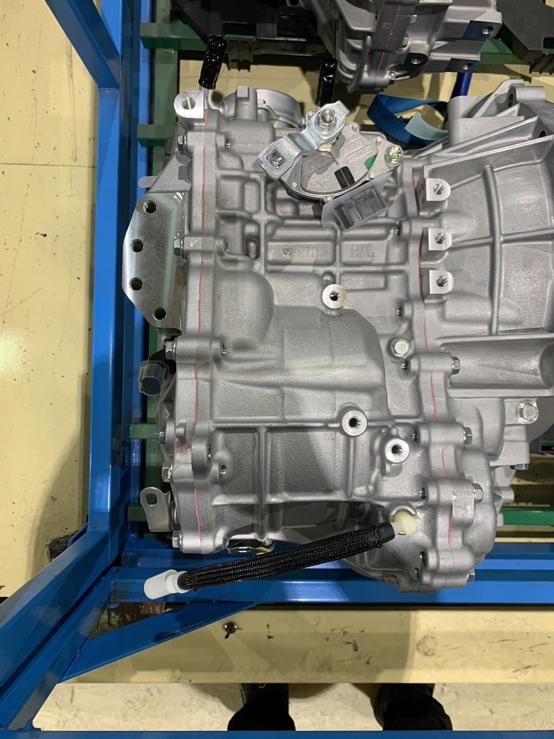gearbox_type1: (123, 86, 553, 593)
gearbox_type1_FP1: (415, 174, 450, 208)
gearbox_type1_FP2: (419, 224, 453, 258)
gearbox_type1_FP3: (173, 90, 209, 124)
